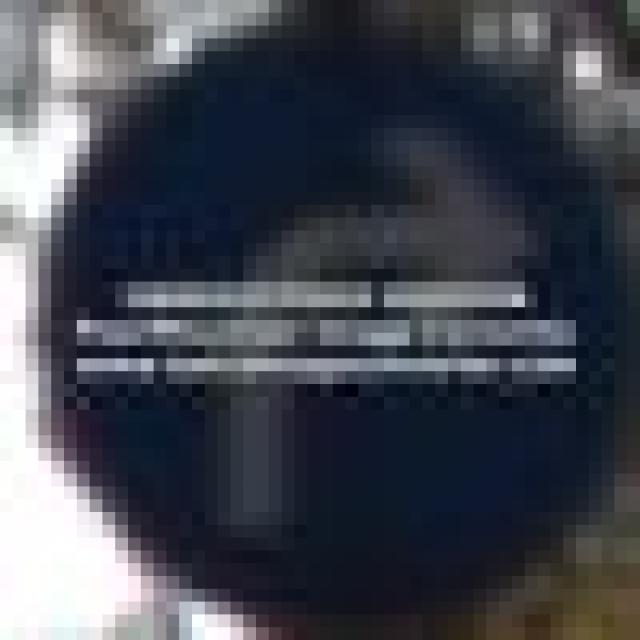railway_crossing: (26, 26, 602, 576)
